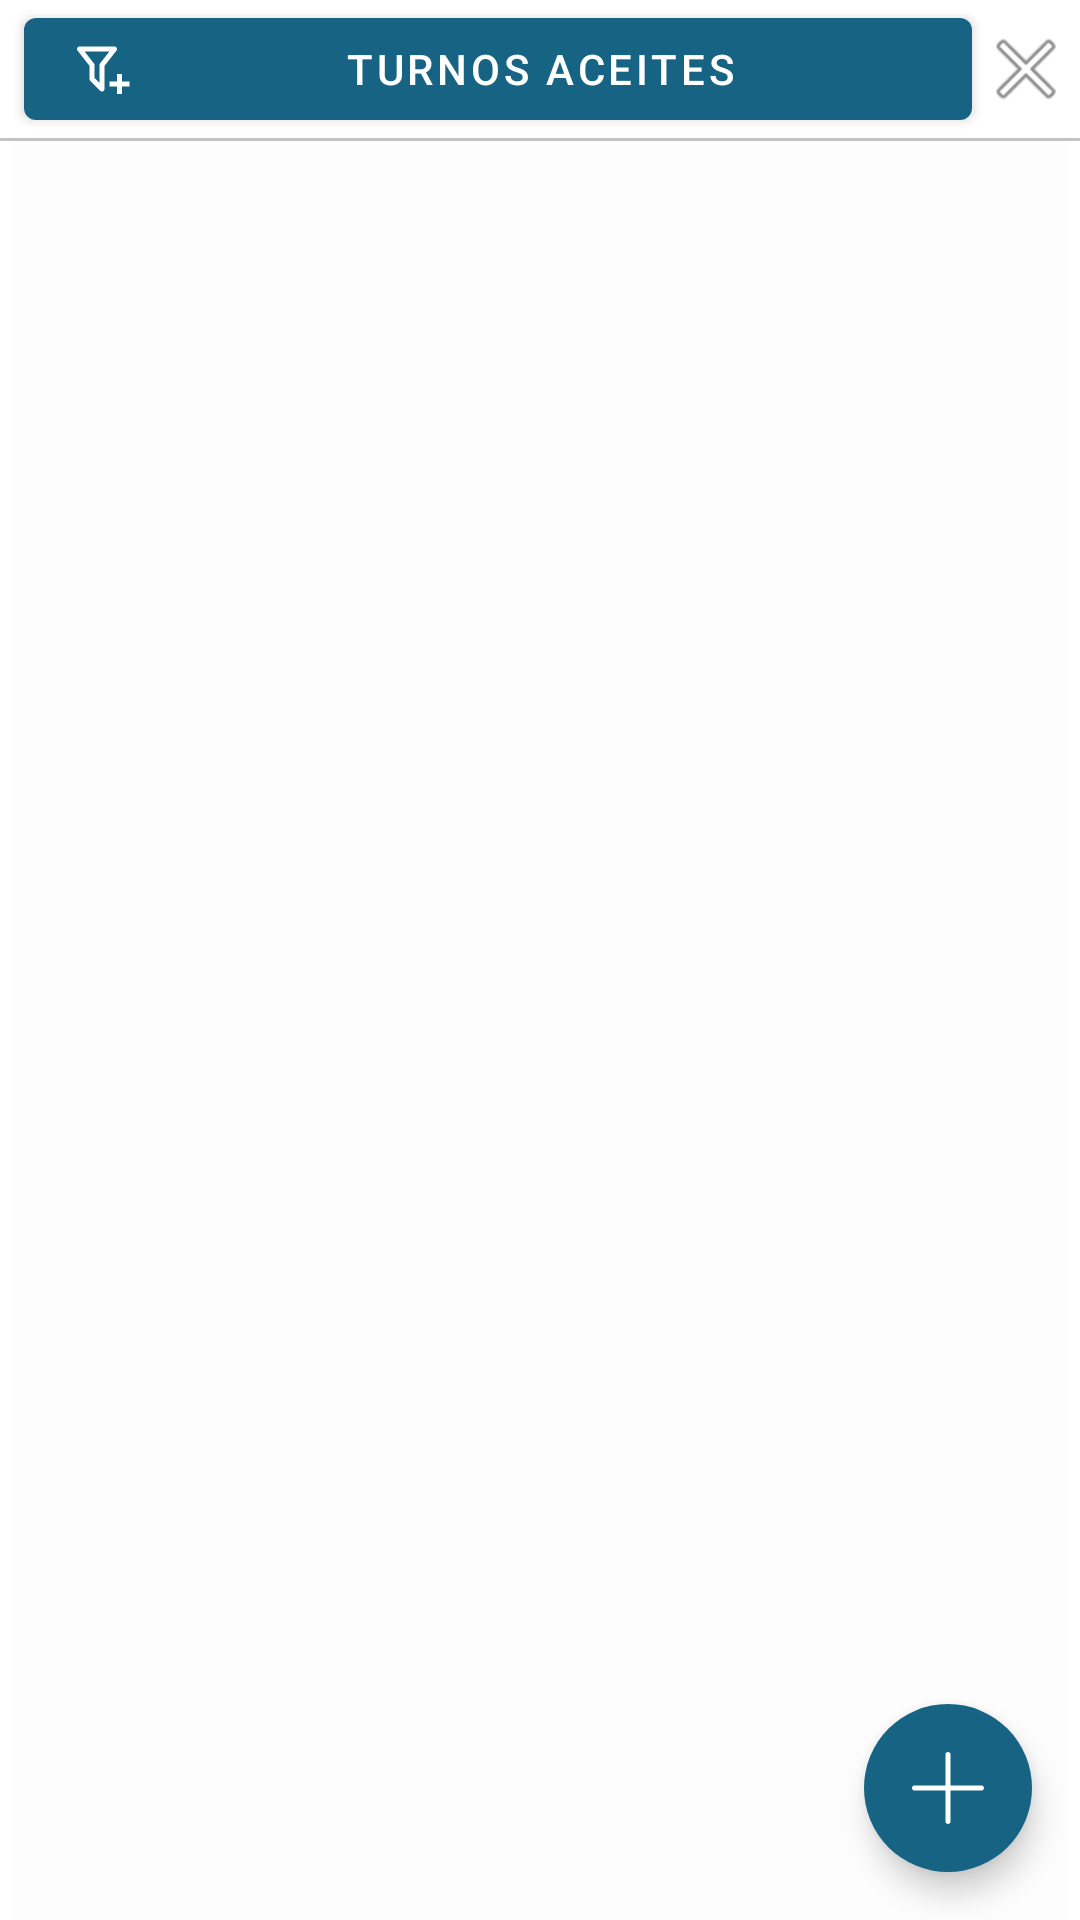

Where icons sit on this 1080x1920 app screen, as (x1, y1, x2, y2):
close clear cancel: (996, 39, 1056, 99)
plus symbol: (864, 1704, 1032, 1872)
